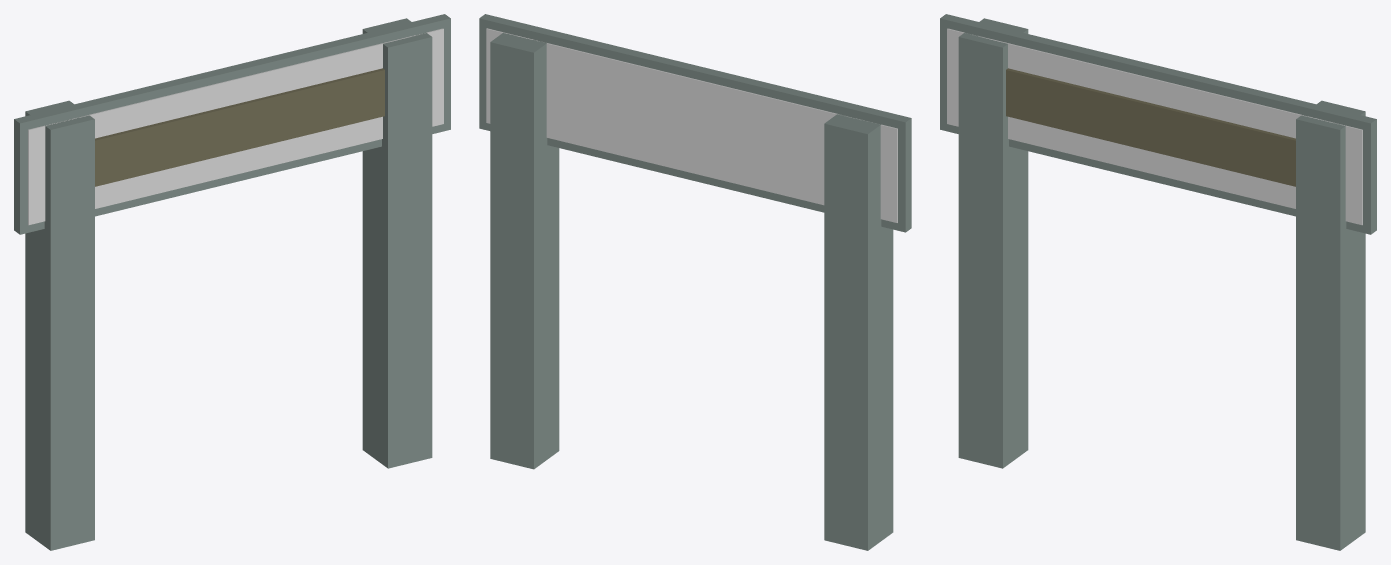
File: SM_CartelEstacion_v0_Postes_LOD1.fbx
3 renders of one model, left to right at view 1: azimuth 30°, elevation 25°; view 2: azimuth 150°, elevation 25°; view 3: azimuth 330°, elevation 25°, orthographic.
Parts seen in each view (by area): view 1: SM_cartel_estacion_v0_LOD1; view 2: SM_cartel_estacion_v0_LOD1; view 3: SM_cartel_estacion_v0_LOD1.
Boxes of the visible parts, x1=… form: SM_cartel_estacion_v0_LOD1: x1=14, y1=14, x2=450, y2=550; SM_cartel_estacion_v0_LOD1: x1=479, y1=14, x2=911, y2=550; SM_cartel_estacion_v0_LOD1: x1=940, y1=14, x2=1376, y2=550.
Bounding box in the file's own units: 3.32 × 3.16 × 0.34.
